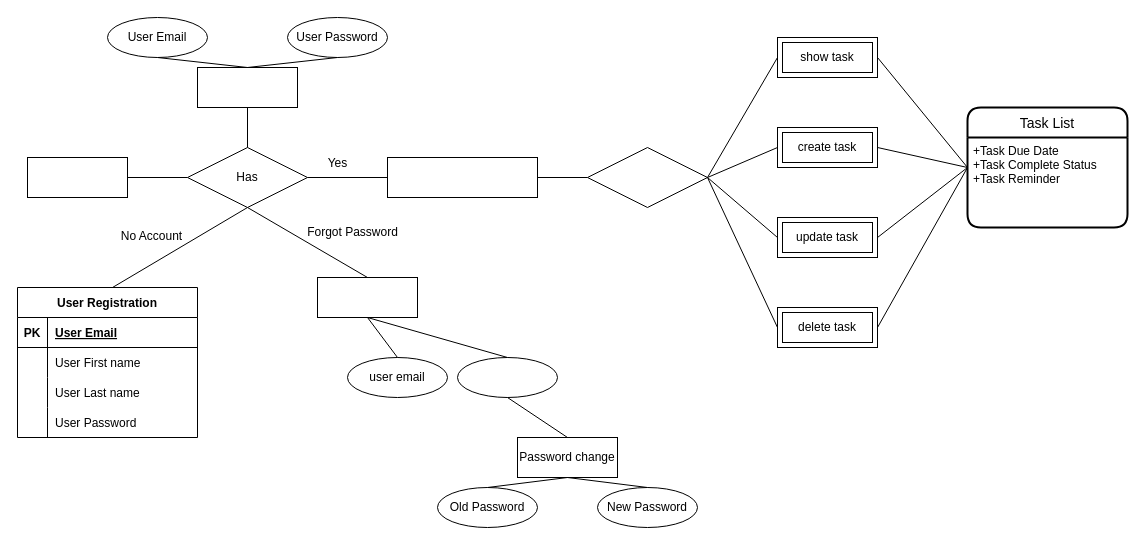
The diagram is 1146 pixels wide and 545 high, and some of its shapes have lost their labels. Each missing label, with the centre of its shape:
"Login" goes at (247,87).
"Manages" goes at (647,177).
"password recovery" goes at (367,297).
"recovery link" goes at (507,377).
"User" goes at (77,177).
"USER_AUTHENTICATED" goes at (462,177).
